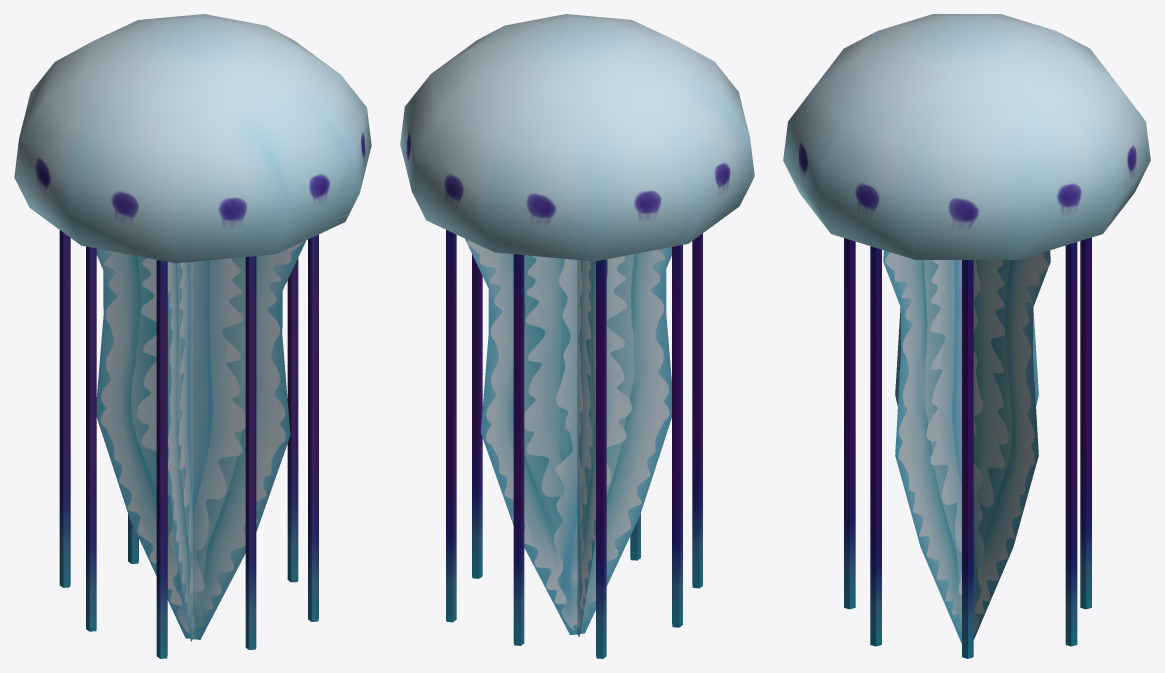
The model's file is jellyfish4.fbx.
3 renders of one model, left to right at view 1: azimuth 30°, elevation 25°; view 2: azimuth 150°, elevation 25°; view 3: azimuth 270°, elevation 25°, orthographic.
Parts seen in each view (by area): view 1: polySurface1; view 2: polySurface1; view 3: polySurface1.
Boxes of the visible parts, box(x1,y1,x2,y2) form: polySurface1: box(14, 14, 371, 658); polySurface1: box(400, 14, 754, 658); polySurface1: box(783, 14, 1150, 658).
Size of the model in its own units: 1.79 by 3.43 by 1.88.
1 material, 1 textured.
